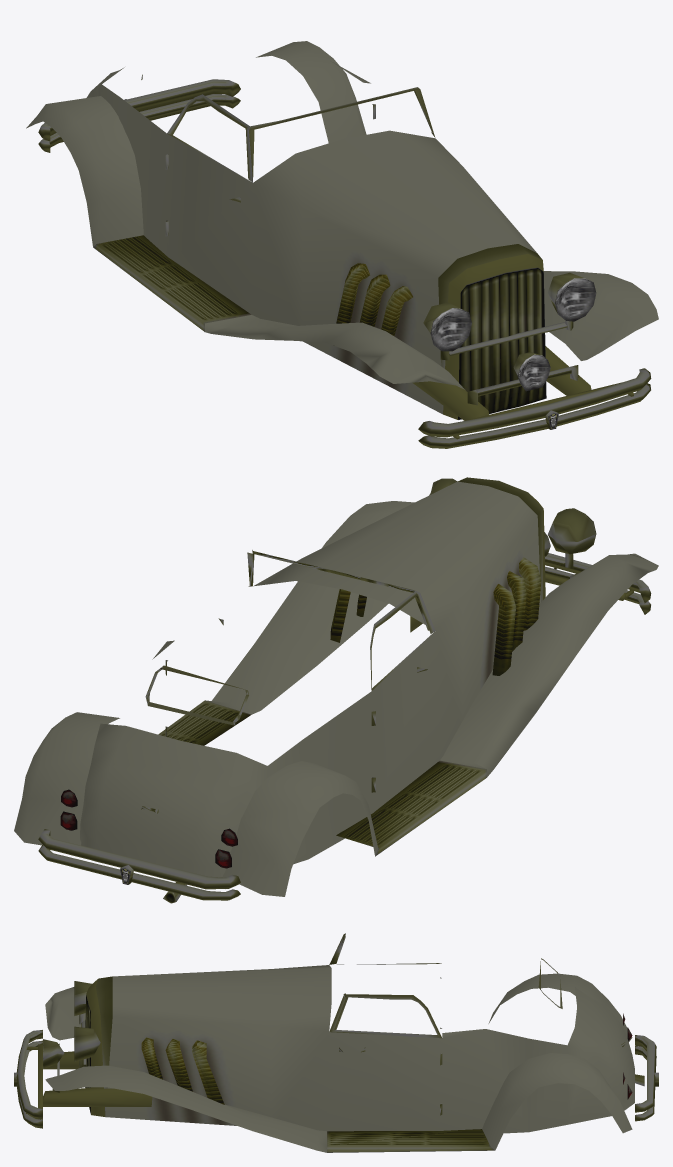
The model's file is car-HSPC_Car26.glb.
3 renders of one model, top to bottom at view 1: azimuth 30°, elevation 25°; view 2: azimuth 150°, elevation 25°; view 3: azimuth 270°, elevation 25°, orthographic. The views are drawn at different scales.
Visible parts, largest first — view 1: HSPC_Car26; view 2: HSPC_Car26; view 3: HSPC_Car26.
Part boxes in pixels (<box>): HSPC_Car26: <box>26,41,658,448</box>; HSPC_Car26: <box>14,477,658,903</box>; HSPC_Car26: <box>14,933,658,1152</box>.
Size of the model in its own units: 1.87 by 1.17 by 4.91.
3 materials, 3 textured.
